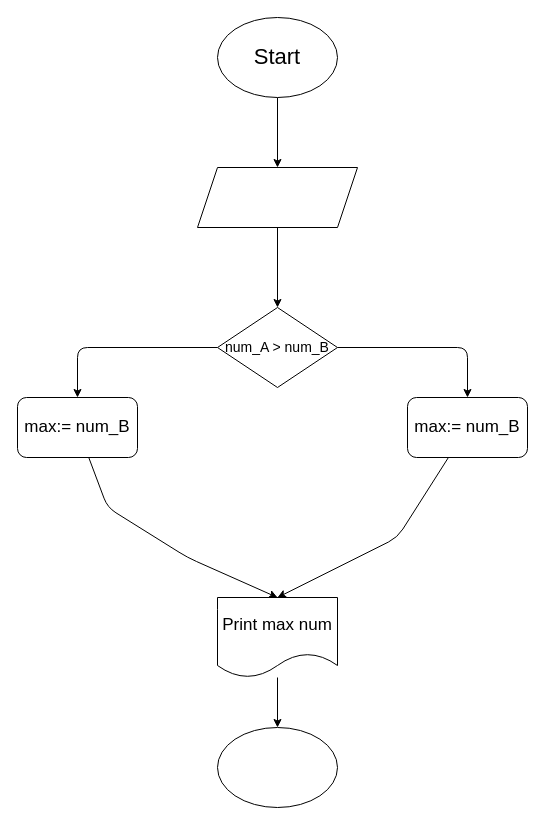
Some shapes in this 545 by 825 pixel diagram are drawn without their labels. The shapes that lost their labels are listed below. From the top down, each one's centre as x and y in pixels, then its label:
At point 277,197: "num_A, num_B".
At point 277,767: "end".
